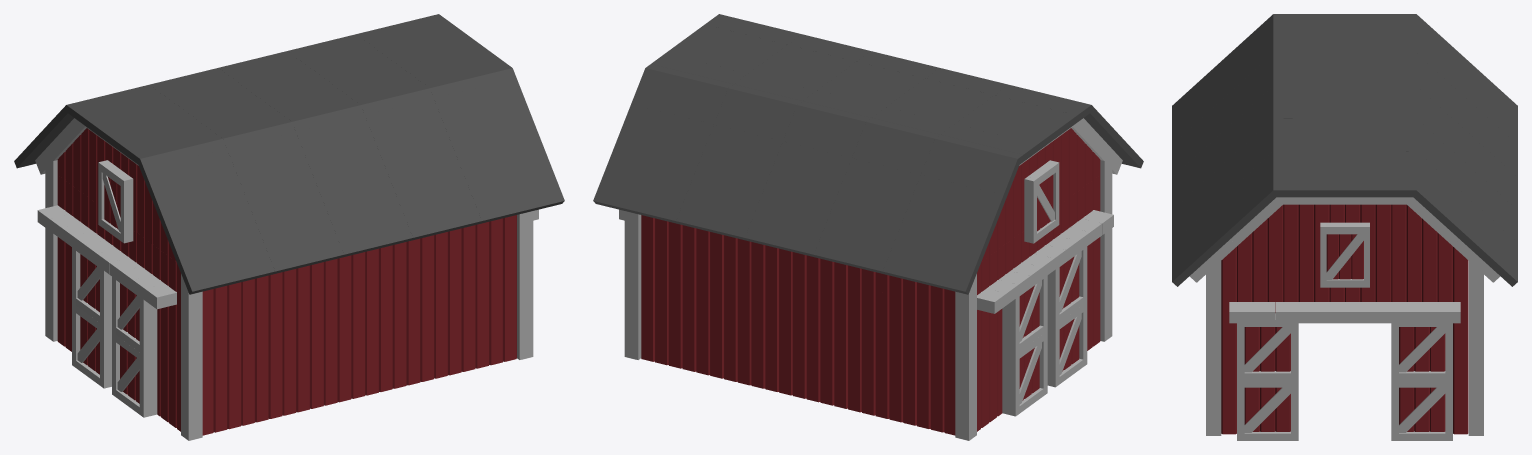
File: barntest.fbx
3 views of the same model, side by side, from view 1: azimuth 30°, elevation 25°; view 2: azimuth 150°, elevation 25°; view 3: azimuth 270°, elevation 25° (orthographic). The views are drawn at different scales.
Parts seen in each view (by area): view 1: Cube.524, Cube, Cube.494, Cube.514, Cube.504, Cube.528, Cube.488, Cube.498, Cube.508, Cube.518, Cube.525, Cube.485 (+104 smaller); view 2: Cube.532, Cube.492, Cube.502, Cube.512, Cube.522, Cube.531, Cube.491, Cube.530, Cube.490, Cube.501, Cube.511, Cube.521 (+103 smaller); view 3: Cube.487, Cube, Cube.492, Cube.527, Cube.490, Cube.486, Cube.488, Cube.491, Cube.524, Cube.532, Cube.530, Cube.497 (+108 smaller).
Boxes of the visible parts, x1,y1,x2,y2 form: Cube.524: [168, 218, 274, 294]; Cube: [461, 147, 564, 223]; Cube.494: [392, 167, 481, 240]; Cube.514: [254, 201, 343, 274]; Cube.504: [323, 184, 412, 257]; Cube.528: [151, 175, 253, 240]; Cube.488: [444, 104, 543, 167]; Cube.498: [375, 124, 460, 183]; Cube.508: [306, 141, 391, 200]; Cube.518: [237, 158, 322, 217]; Cube.525: [138, 149, 236, 197]; Cube.485: [434, 78, 526, 124]; Cube.532: [883, 218, 989, 294]; Cube.492: [593, 147, 696, 223]; Cube.502: [676, 167, 765, 240]; Cube.512: [745, 184, 834, 257]; Cube.522: [814, 201, 903, 274]; Cube.531: [904, 175, 1006, 240]; Cube.491: [614, 104, 713, 167]; Cube.530: [921, 134, 1023, 197]; Cube.490: [631, 64, 733, 124]; Cube.501: [697, 124, 782, 183]; Cube.511: [766, 141, 851, 200]; Cube.521: [835, 158, 920, 217]; Cube.487: [1301, 151, 1347, 197]; Cube: [1172, 206, 1217, 286]; Cube.492: [1472, 206, 1517, 286]; Cube.527: [1301, 14, 1347, 53]; Cube.490: [1406, 151, 1444, 219]; Cube.486: [1265, 151, 1301, 197]; Cube.488: [1213, 176, 1250, 249]; Cube.491: [1439, 176, 1476, 249]; Cube.524: [1172, 69, 1212, 144]; Cube.532: [1477, 69, 1517, 144]; Cube.530: [1406, 14, 1444, 77]; Cube.497: [1301, 118, 1347, 150].
Size of the model in its own units: 5496 by 3606 by 4480.
